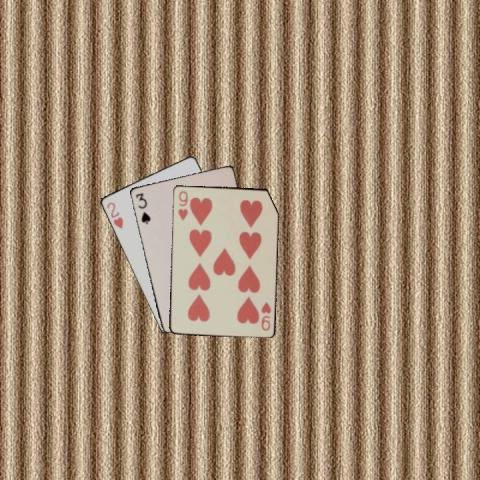2h: (103, 199, 124, 230)
3s: (133, 190, 151, 225)
9h: (174, 187, 188, 222), (258, 299, 272, 332)
